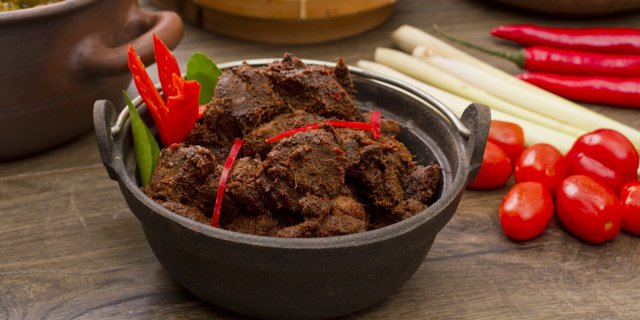rendang: (111, 38, 450, 258)
